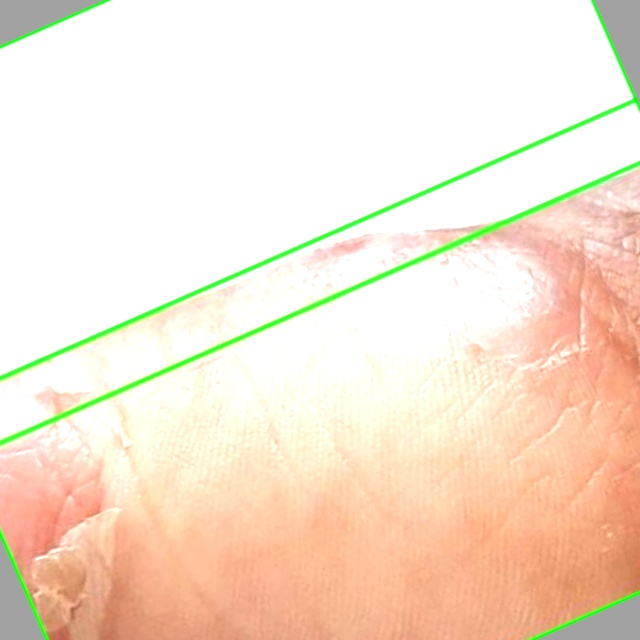Scabies: (0, 99, 639, 639), (0, 0, 639, 444)
